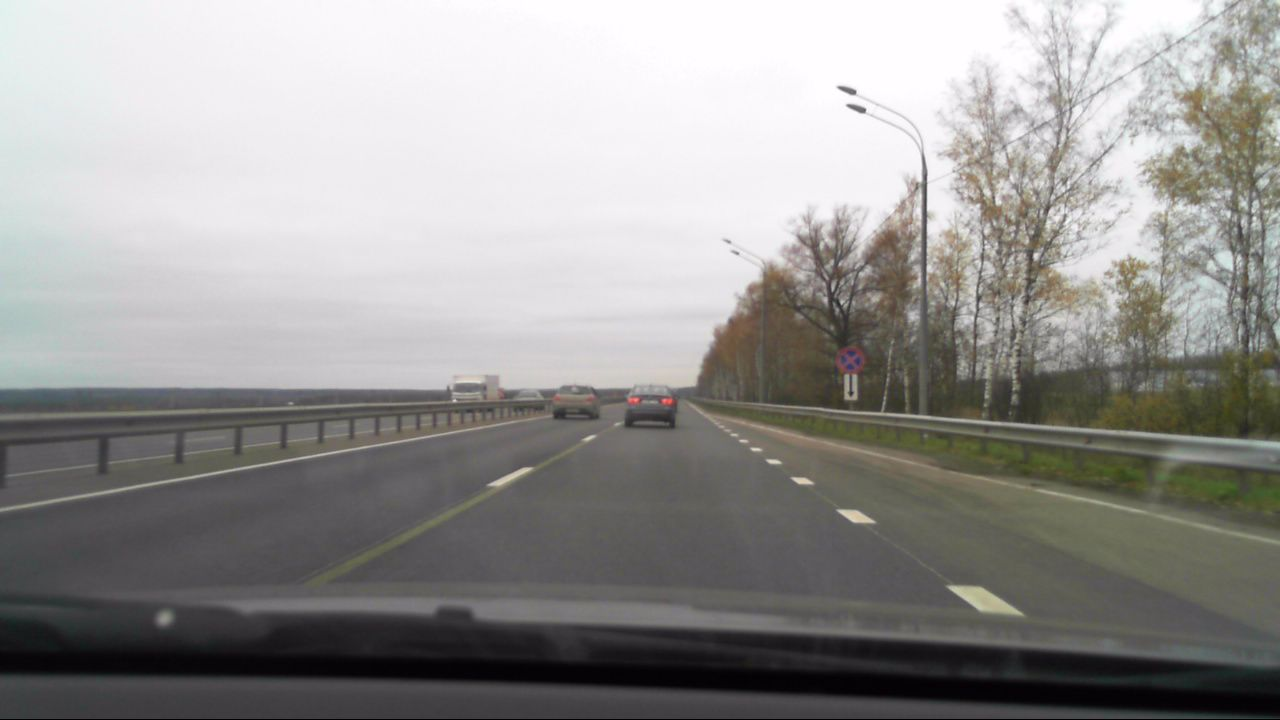No Parking: (834, 345, 864, 374)
